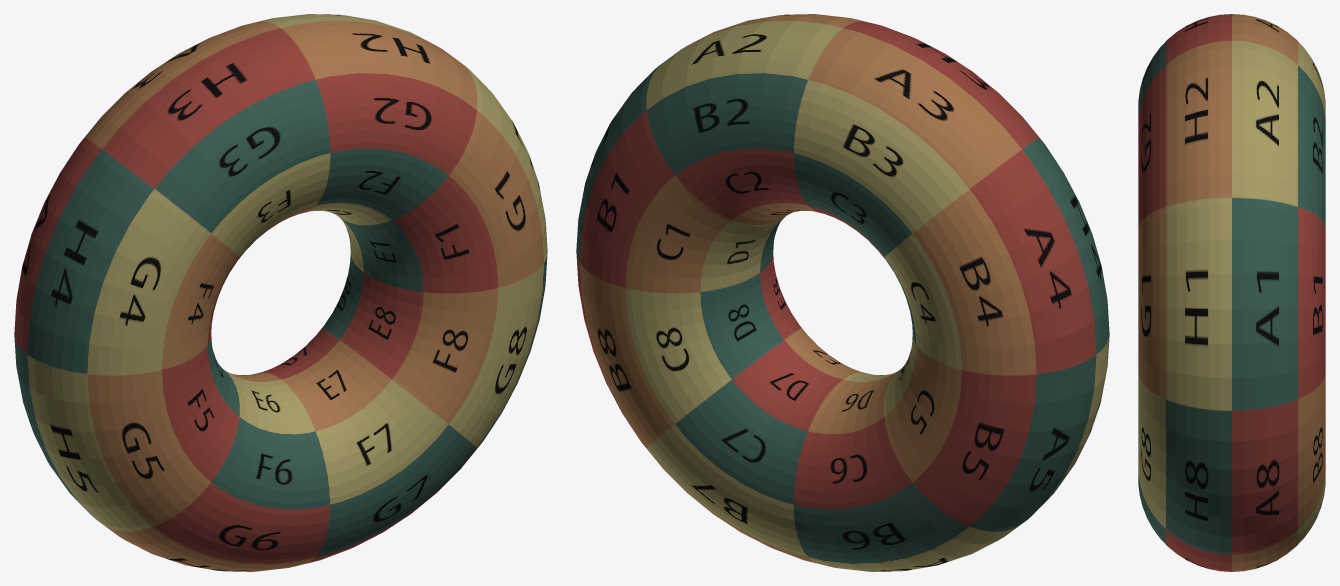
Rendered from texture_torus_R13_r28.glb.
3 views of the same model, side by side, from view 1: azimuth 30°, elevation 25°; view 2: azimuth 150°, elevation 25°; view 3: azimuth 270°, elevation 25° (orthographic). The views are drawn at different scales.
Visible parts, largest first — view 1: world; view 2: world; view 3: world.
Part boxes in pixels (x1,y1,x2,y2): world: [14, 14, 547, 571]; world: [576, 14, 1109, 571]; world: [1138, 14, 1325, 571].
Size of the model in its own units: 28.13 by 28.08 by 9.45.
Materials: 1 (1 with a texture image).
